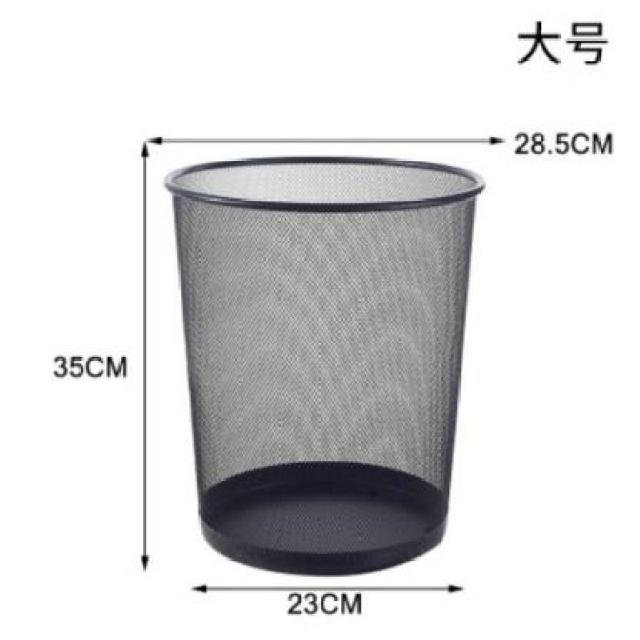dustbin: (157, 149, 493, 584)
